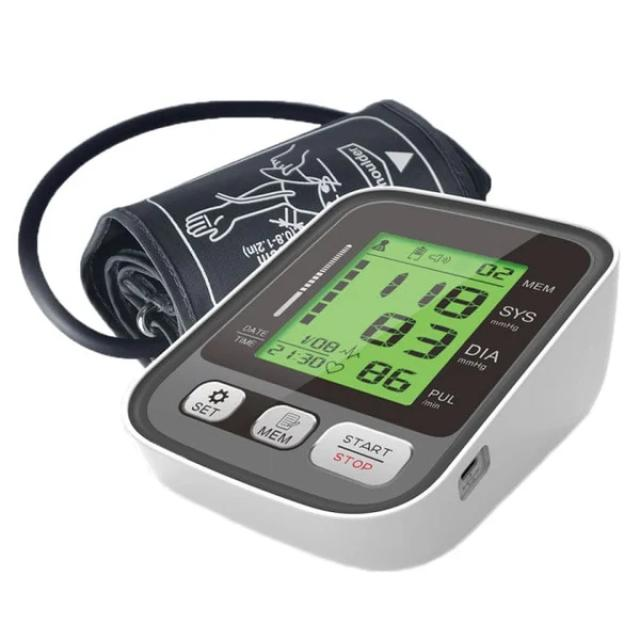dia: (346, 296, 468, 371)
pul: (341, 345, 424, 403)
ssd: (255, 167, 529, 453)
sys: (357, 254, 501, 331)
